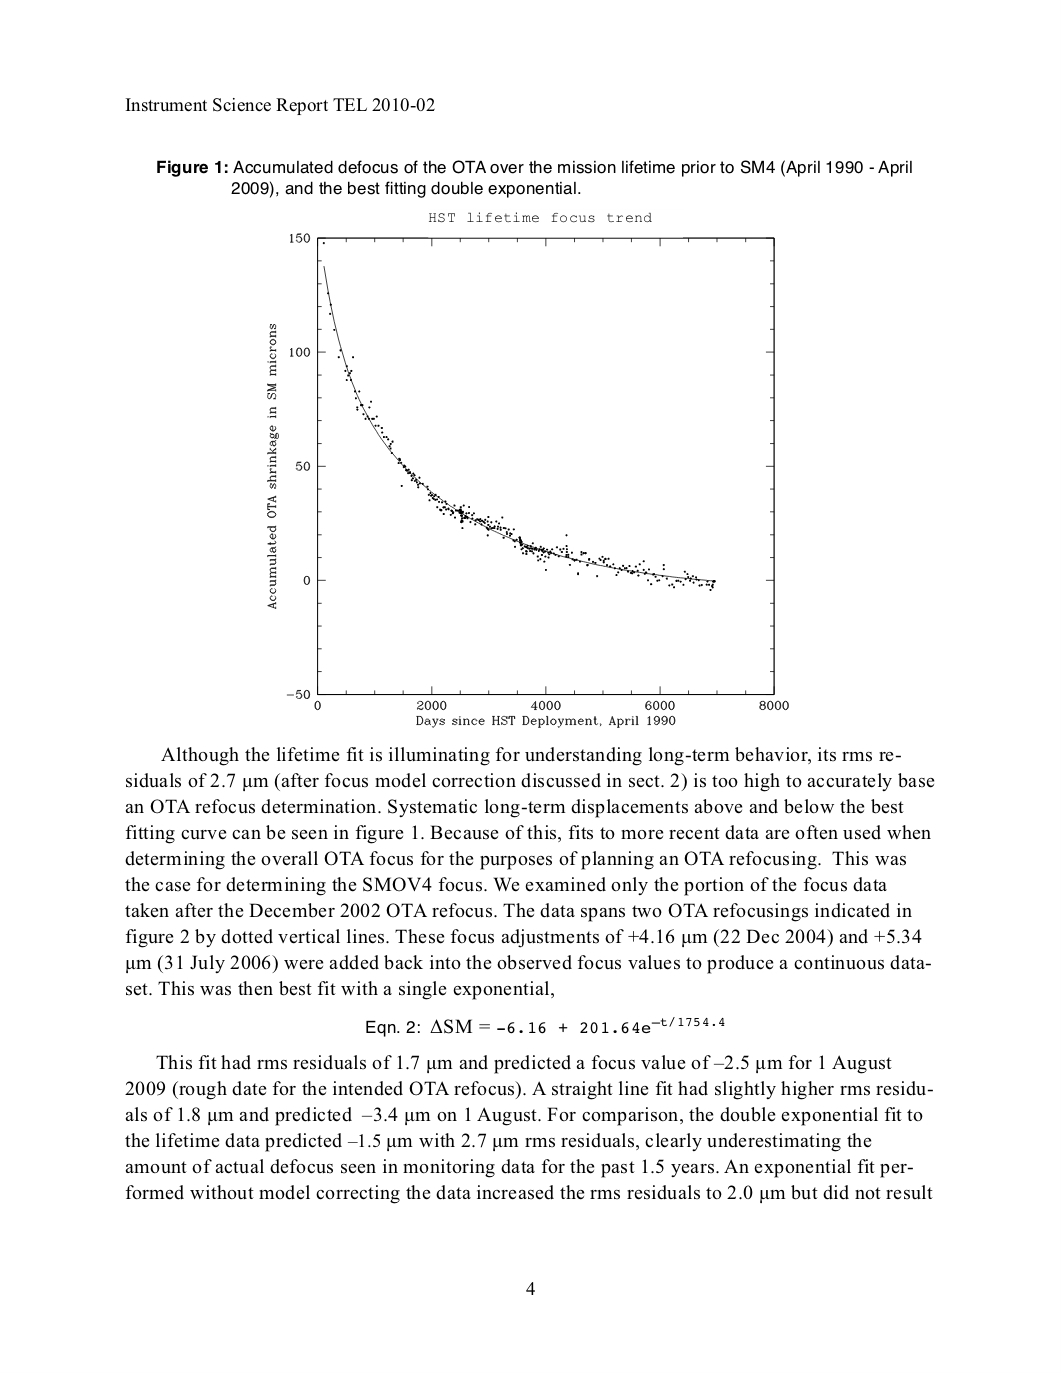figure: (267, 233, 788, 727)
formula: (366, 1016, 724, 1038)
